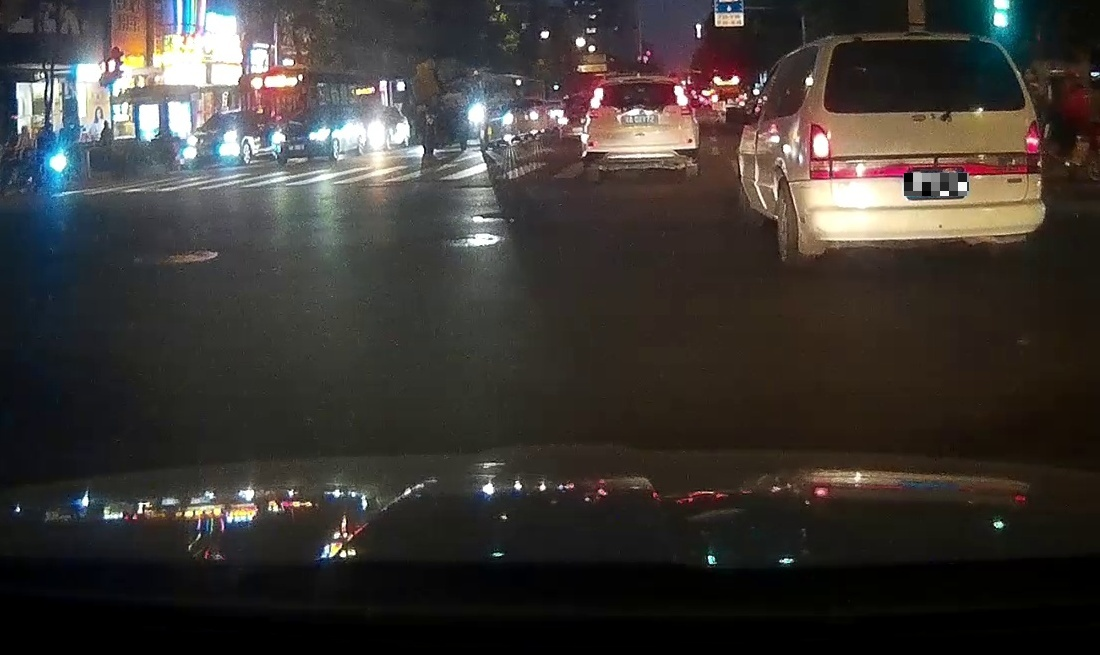L_light: (809, 124, 831, 160), (589, 88, 603, 108)
R_light: (1025, 121, 1041, 154), (674, 85, 688, 107)
T_light: (902, 38, 934, 44), (629, 84, 646, 87)
night-left: (805, 30, 1046, 270)
night-no: (581, 76, 698, 182)
plate_1: (904, 173, 969, 196)
